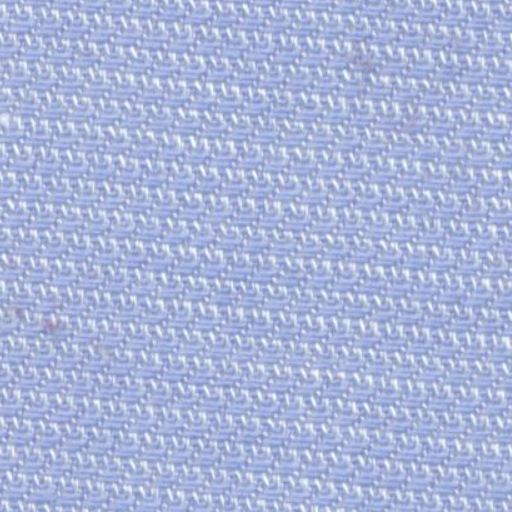WuZi: (16, 294, 76, 342), (332, 42, 388, 91)
